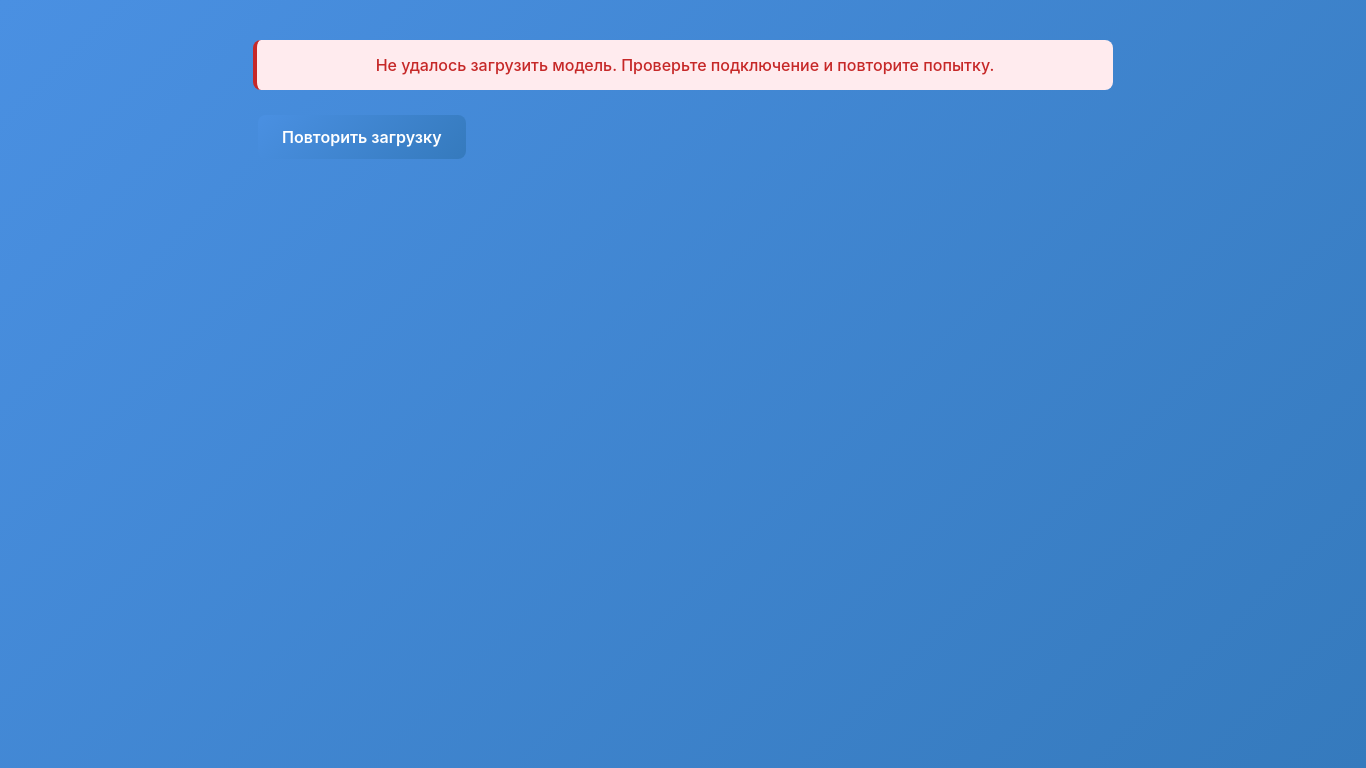
Scenario: shows model failure and retries successfully
Expected: the message "Не удалось загрузить модель. Проверьте подключение и повторите попытку." is shown, [253,40,1113,90]
Click the button "Повторить загрузку" at [362, 137], box [258,115,466,159]
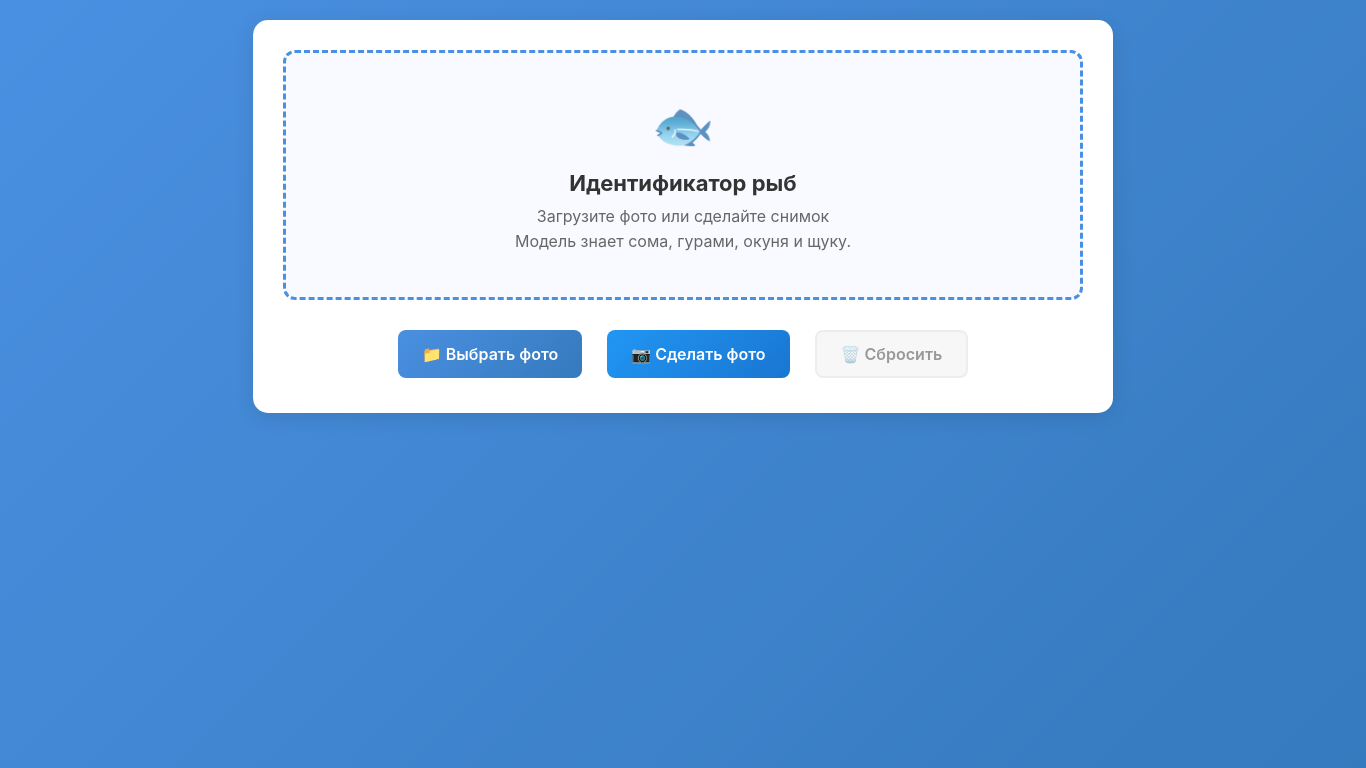
Expected: the button "📁 Выбрать фото" is shown, [398,330,582,378]
Expected: the message "Не удалось загрузить модель. Проверьте подключение и повторите попытку." is gone
